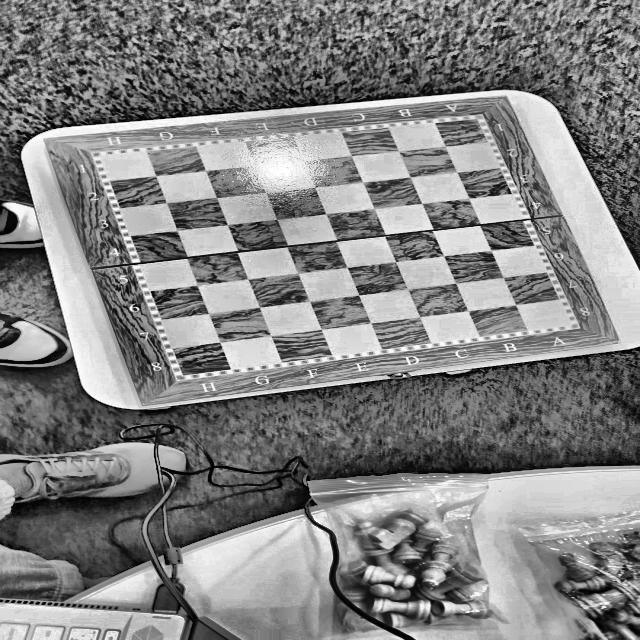black-rook: (0, 196, 24, 241)
chessboard: (45, 99, 622, 406)
